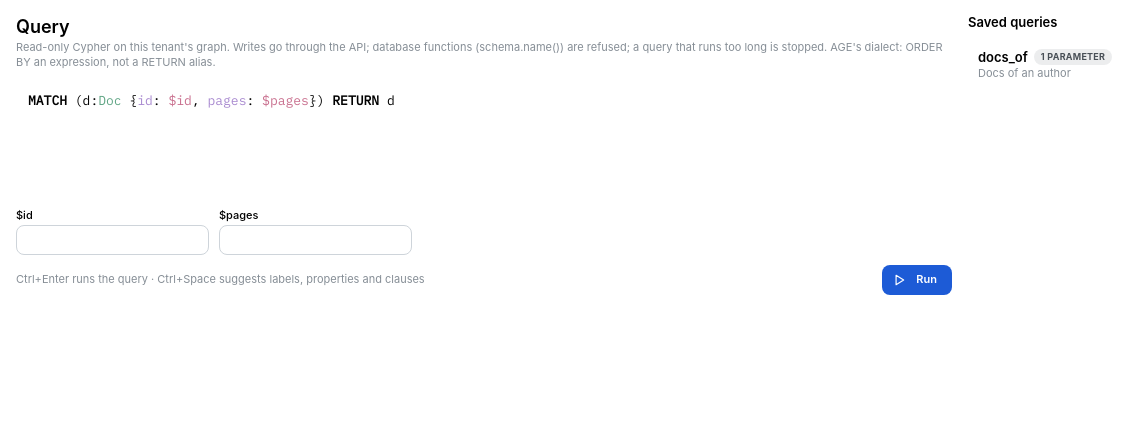
Scenario: the Query view › runs a query with its parameters and shows the table
Type "d1" into the field labelled "$id". click: (112, 240)
box: [16, 225, 209, 255]
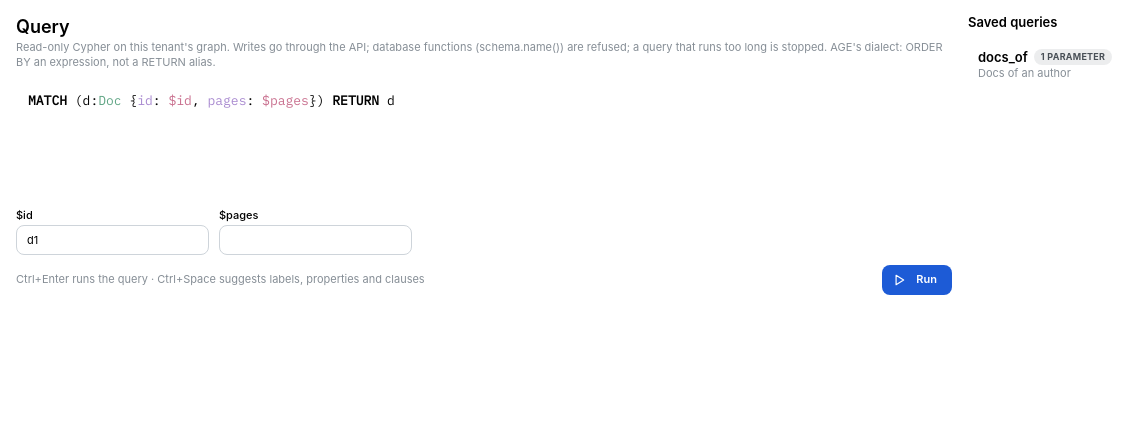
Type "5" into the field labelled "$pages". click: (316, 240)
box: [219, 225, 412, 255]
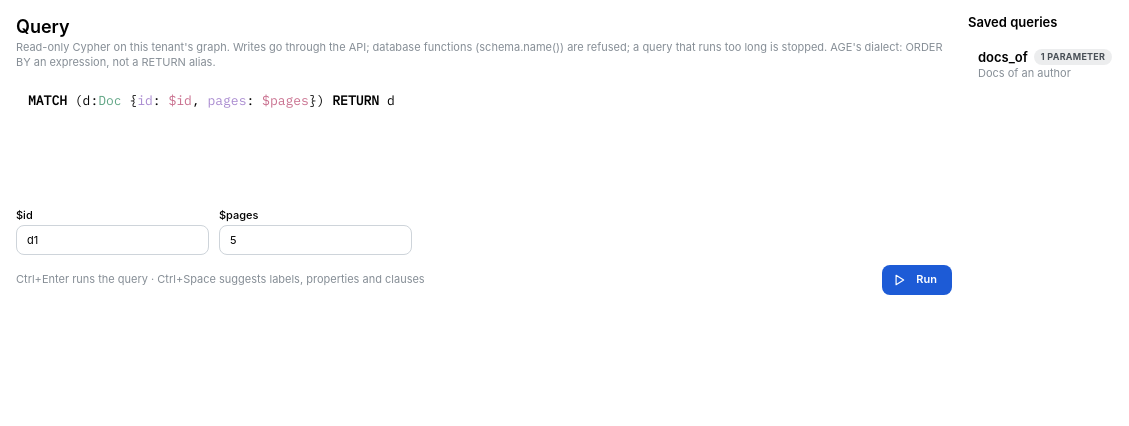
Click the button "Run". click: (917, 280)
box: [882, 265, 952, 295]
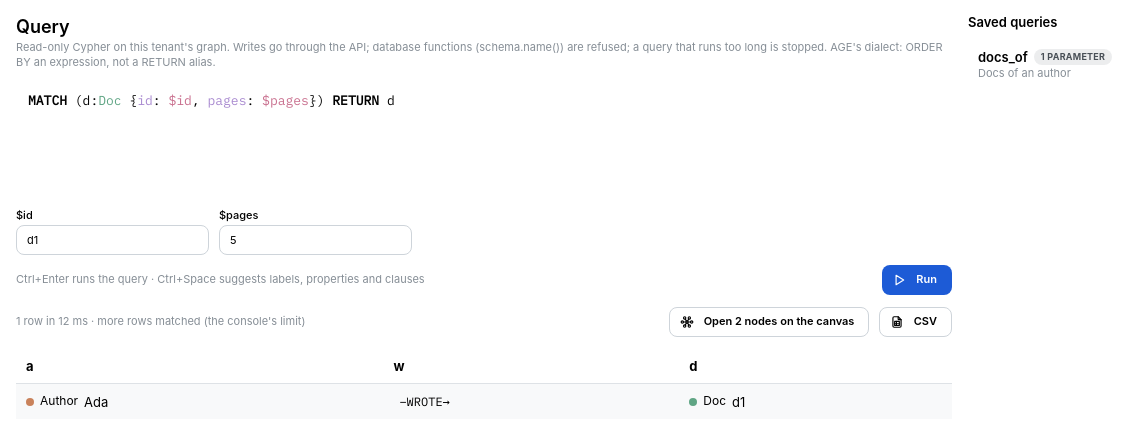
Expected: the text "Ada" is shown, [84, 394, 108, 410]
Expected: the text "1 row in 12 ms · more rows matched (the console's limit)" is shown, [16, 314, 305, 329]
